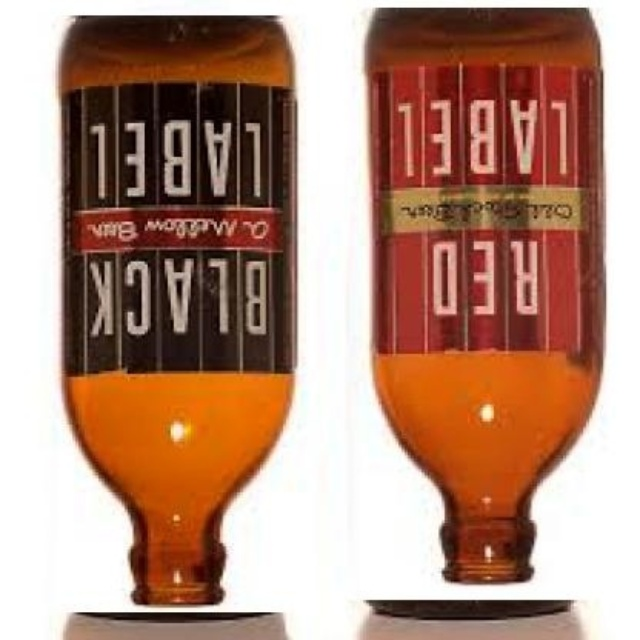trash: (62, 17, 292, 603), (368, 9, 603, 582)
